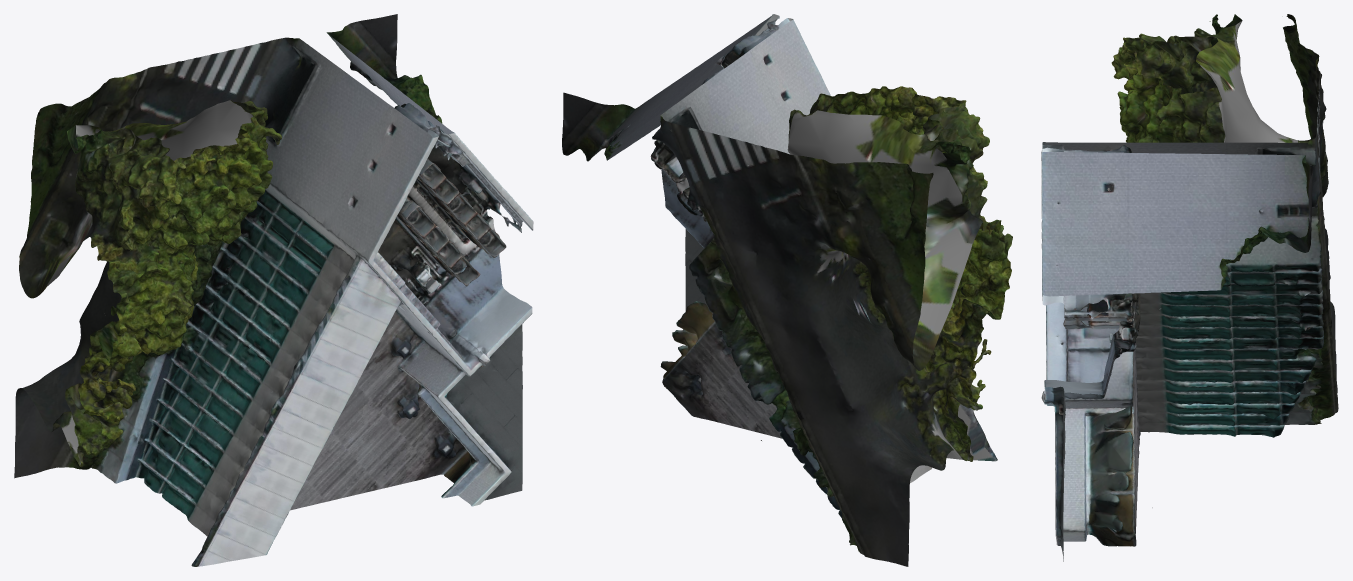
Rendered from Tile_+014_+015.fbx.
3 views of the same model, side by side, from view 1: azimuth 30°, elevation 25°; view 2: azimuth 150°, elevation 25°; view 3: azimuth 270°, elevation 25° (orthographic). The views are drawn at different scales.
Visible parts, largest first — view 1: DefaultName; view 2: DefaultName; view 3: DefaultName.
Part boxes in pixels (x1=…): DefaultName: x1=14, y1=14, x2=533, y2=566; DefaultName: x1=562, y1=14, x2=1012, y2=566; DefaultName: x1=1041, y1=14, x2=1338, y2=561.
Size of the model in its own units: 22.54 by 22.54 by 16.09.
